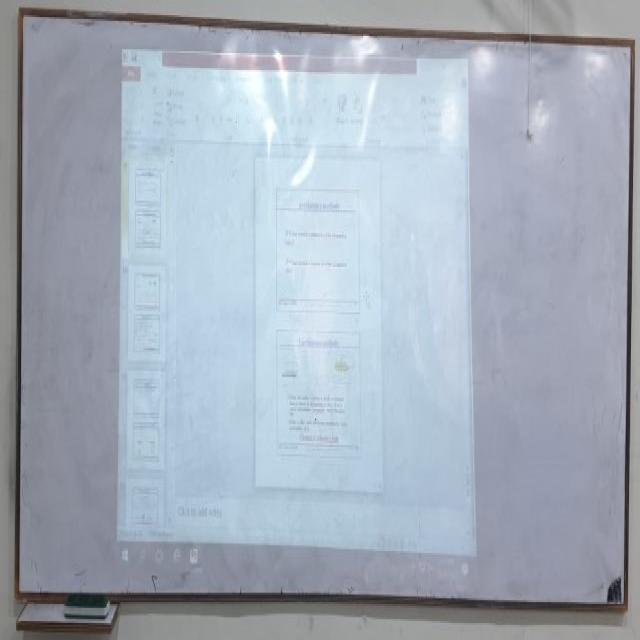Slide: (118, 25, 480, 588)
White-board: (19, 14, 633, 606)
